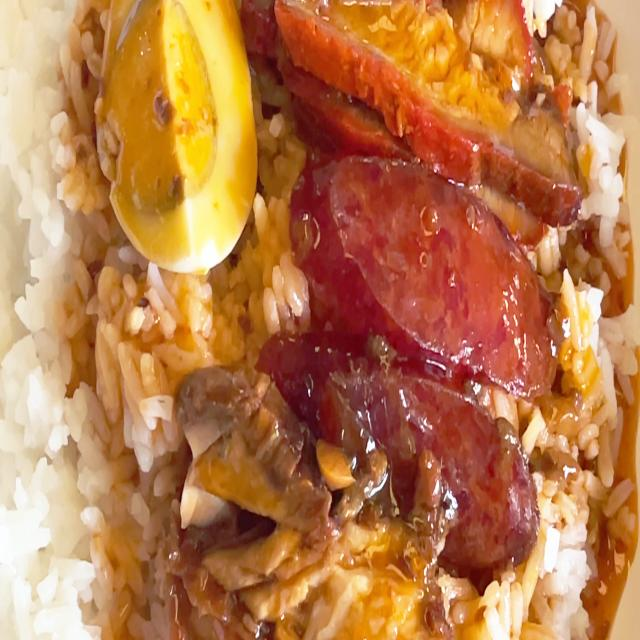boiled_egg: (98, 0, 251, 248)
chainese_sausage: (282, 168, 530, 510)
crispy_pork: (204, 520, 471, 640)
red_pork: (280, 0, 572, 196)
red_pork_and_crispy_pork: (0, 0, 640, 640)
rice: (13, 13, 119, 610)
